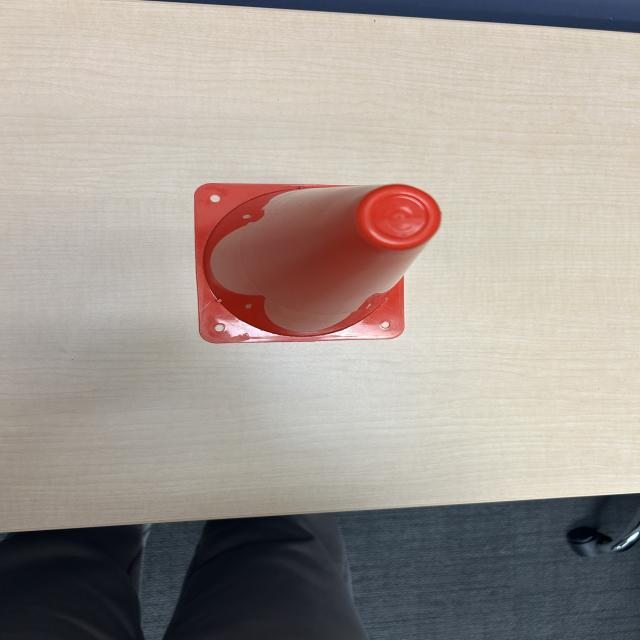orange cone: (187, 180, 457, 348)
